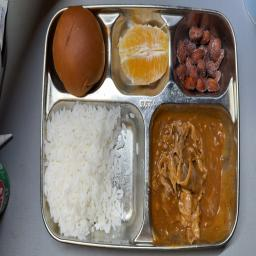100_bread: (50, 6, 106, 97)
100_nuts: (171, 16, 229, 94)
100_orange: (111, 13, 170, 89)
75_beef: (151, 106, 232, 241)
75_rice: (47, 100, 141, 242)
